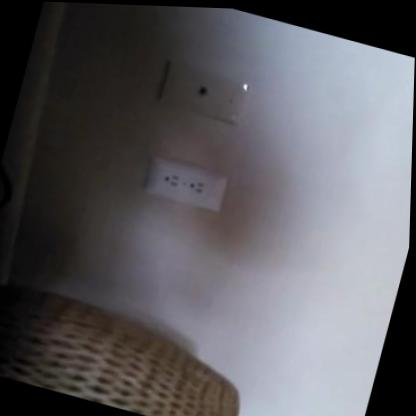OUTLET: (142, 155, 230, 213)
